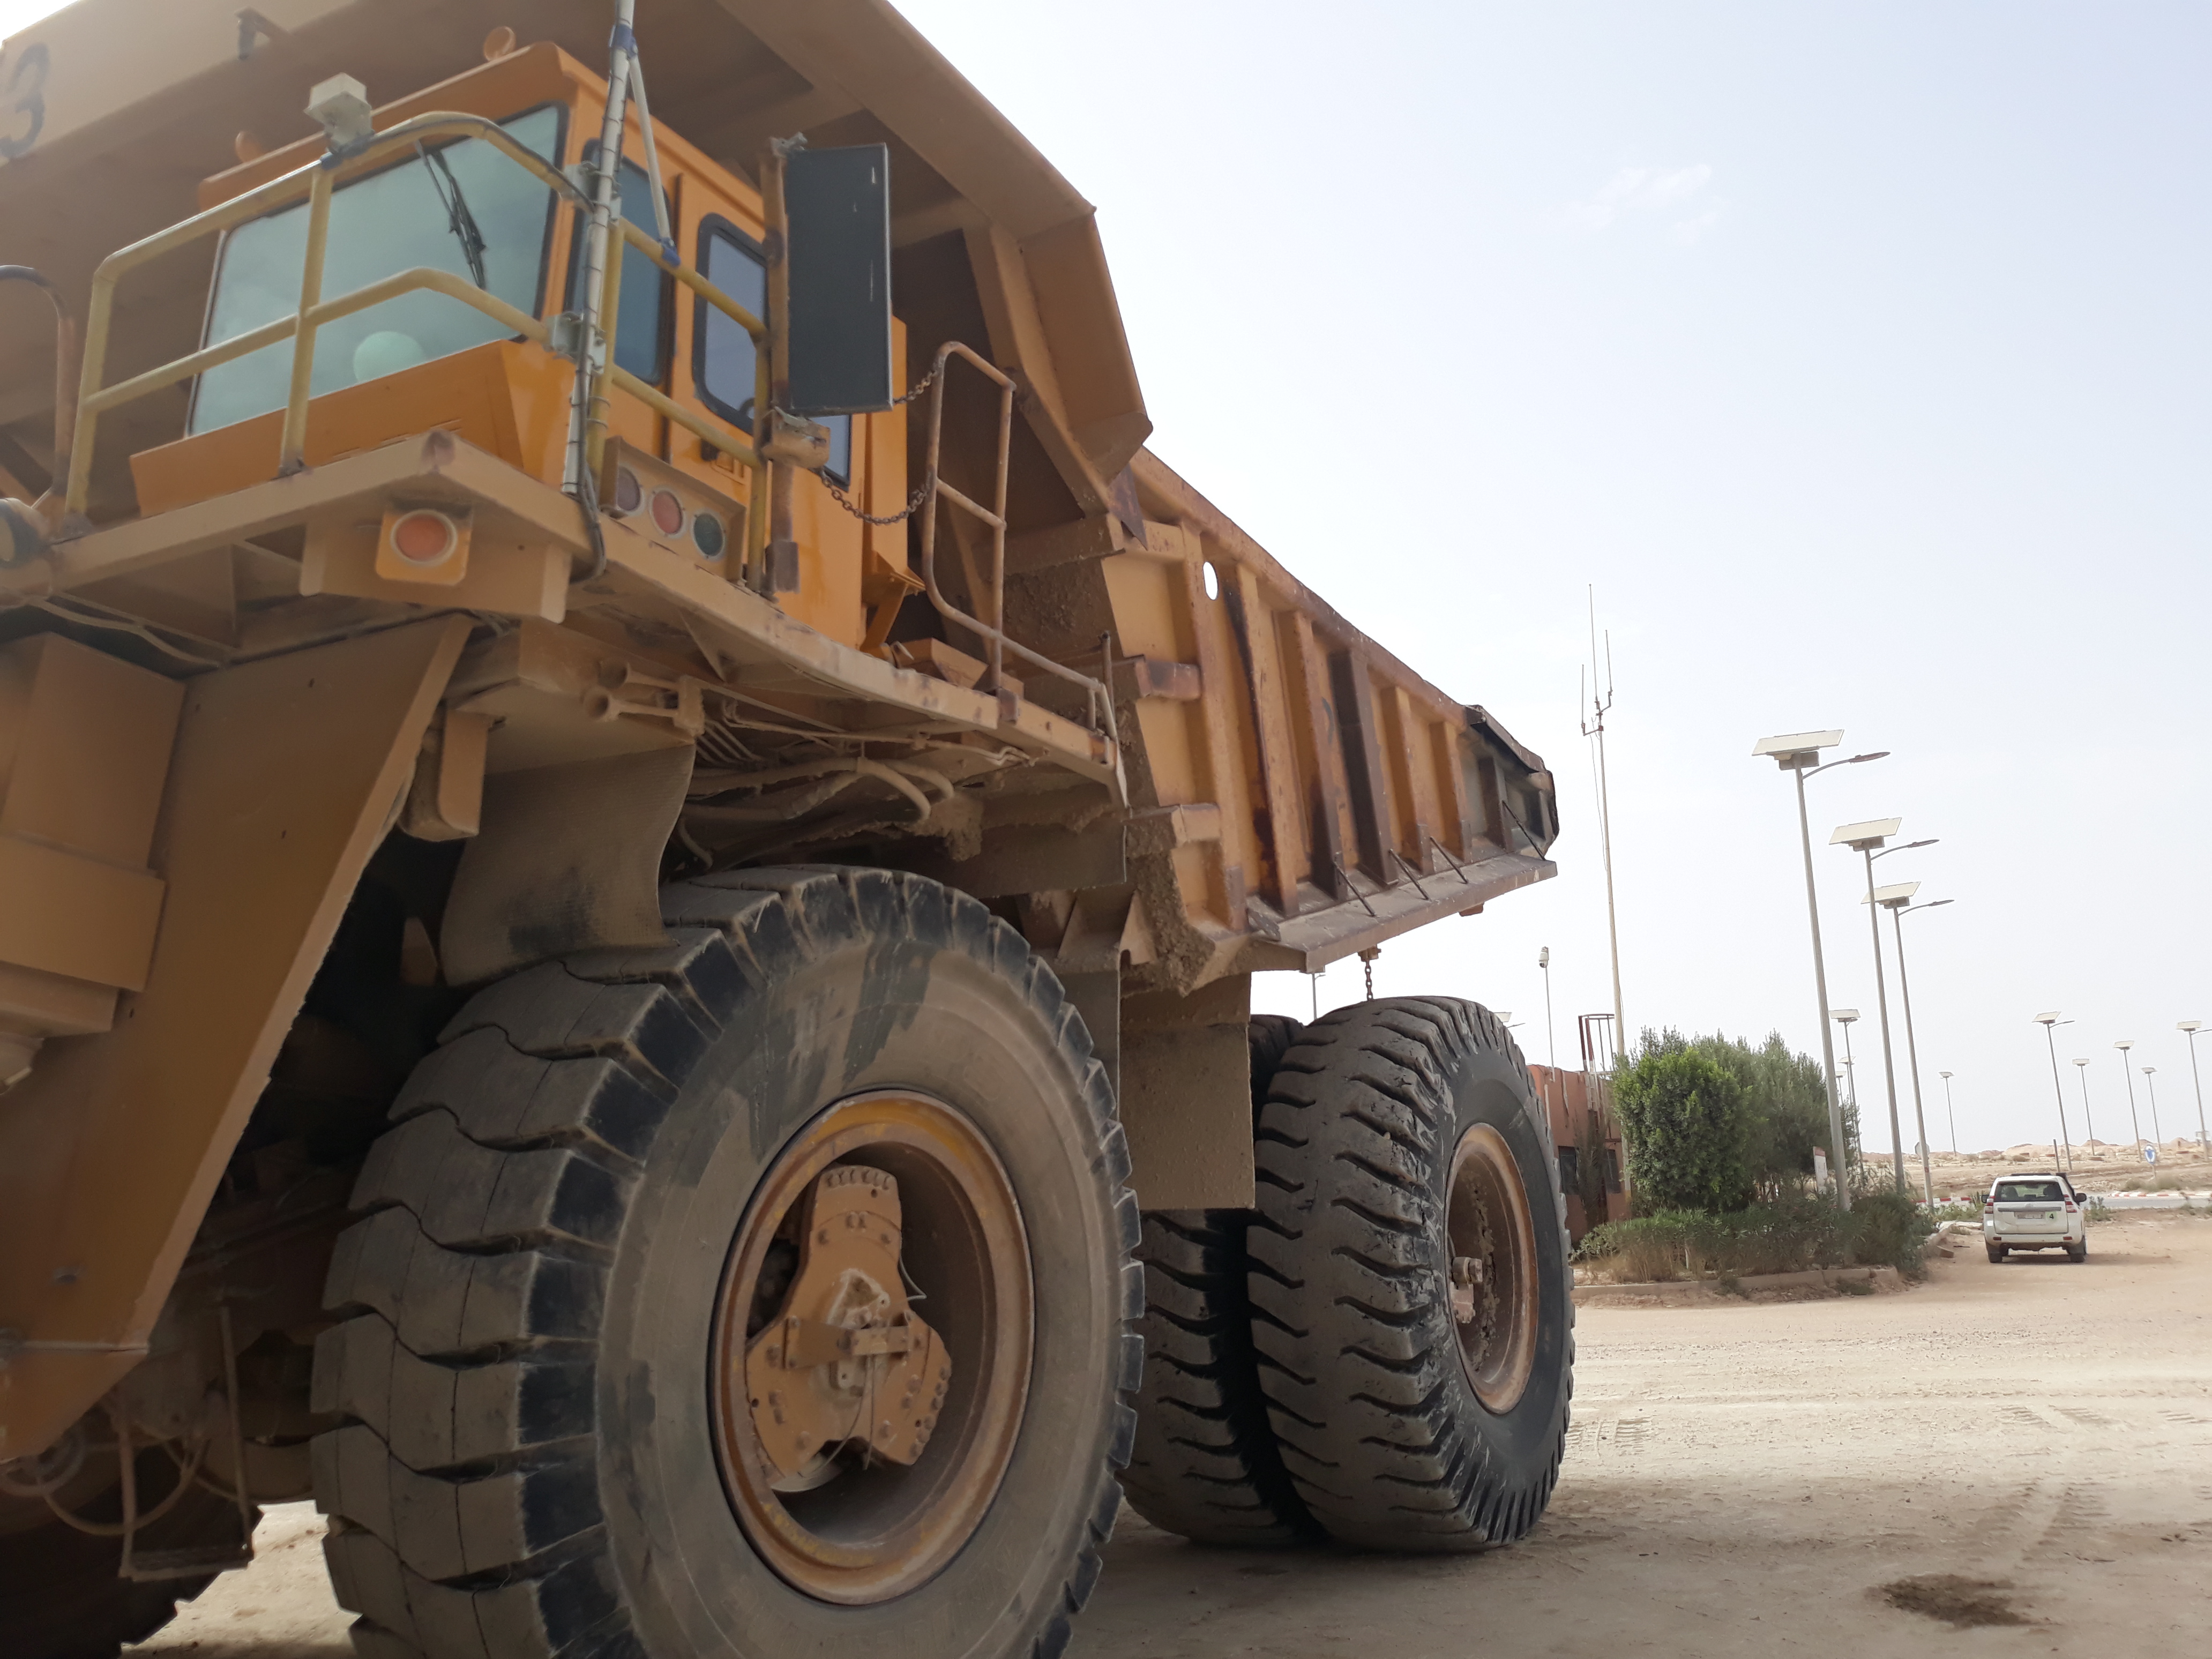camion: (0, 0, 1627, 1640)
car: (1970, 1157, 2107, 1298)
